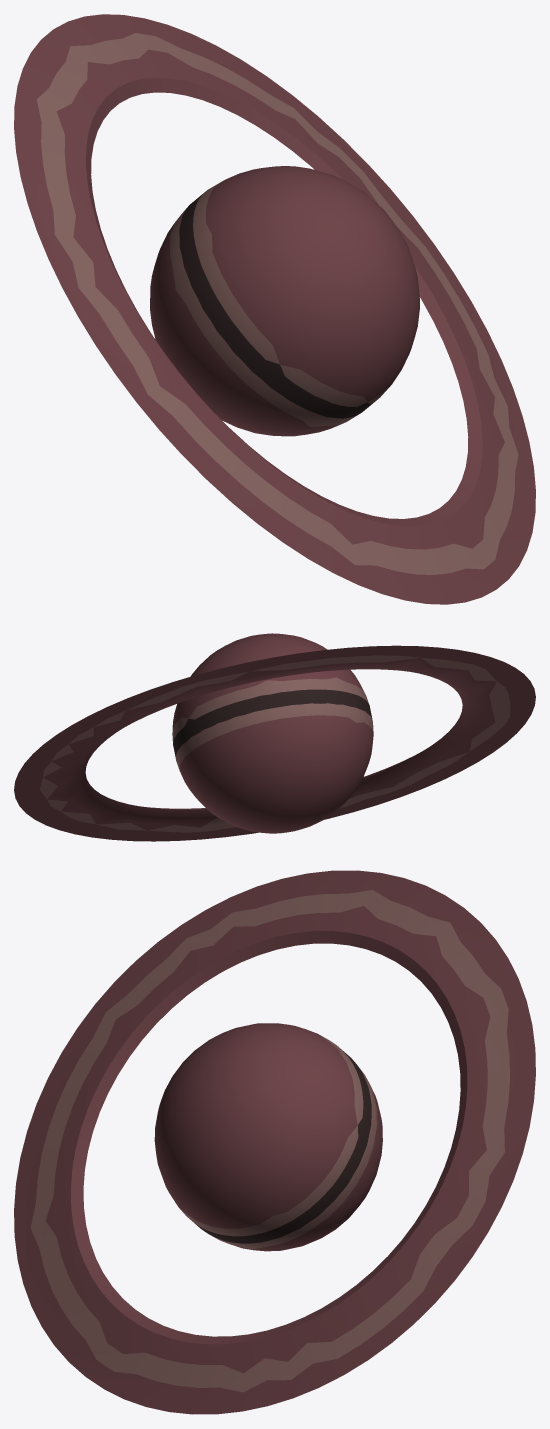
Rendered from quaternius-ultimate-space-pack-planet-10-transformed.glb.
3 renders of one model, top to bottom at view 1: azimuth 30°, elevation 25°; view 2: azimuth 150°, elevation 25°; view 3: azimuth 270°, elevation 25°, orthographic. The views are drawn at different scales.
Parts seen in each view (by area): view 1: Planet_10; view 2: Planet_10; view 3: Planet_10.
Part boxes in pixels (left/top/right/bottom): Planet_10: left=14, top=14, right=535, bottom=604; Planet_10: left=14, top=633, right=535, bottom=841; Planet_10: left=14, top=870, right=535, bottom=1414.
Bounding box in the file's own units: 5.74 × 4.68 × 5.74.
1 material, 1 textured.
